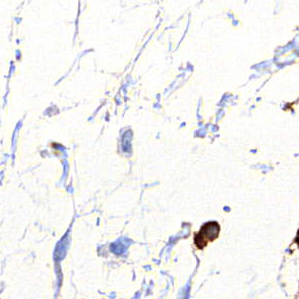Lymphocyte: (194, 220, 221, 252)
